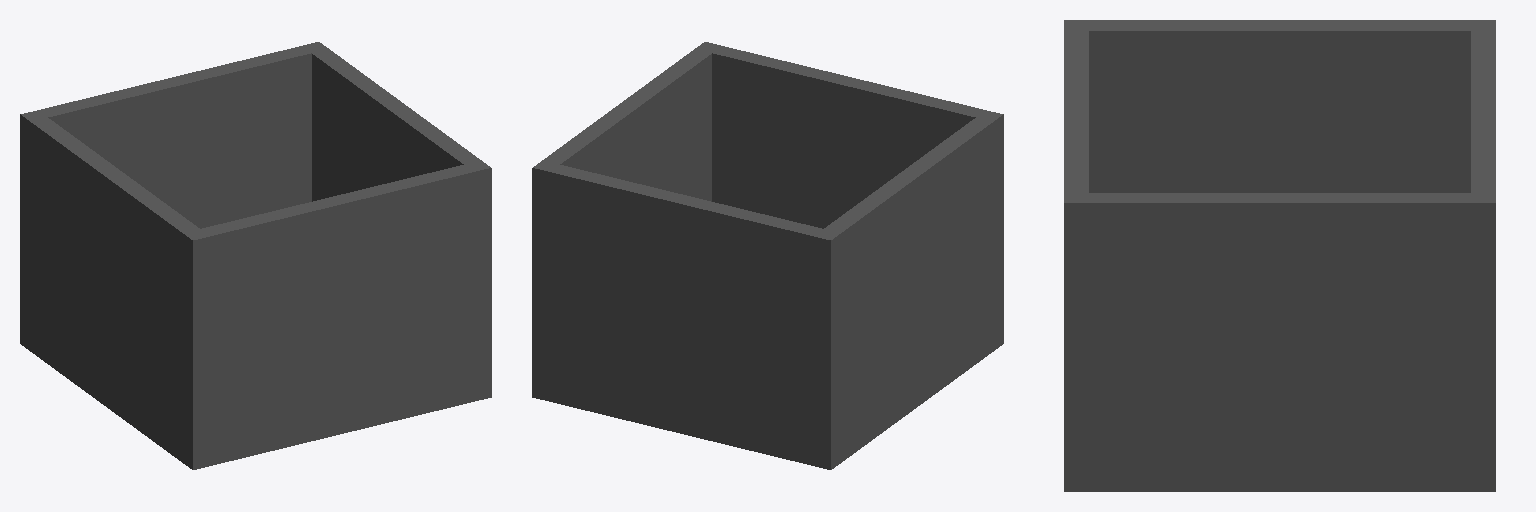
robot.urdf — box_dark:
<?xml version="1.0"?>
<robot name="box_dark">
  
  <!-- Bottom of the box -->
  <link name="box_bottom">
    <visual>
      <geometry>
        <box size="0.3 0.3 0.02"/>  <!-- 30cm x 30cm, 2cm thick -->
      </geometry>
      <origin xyz="0 0 0.01"/>
      <material name="gray">
        <color rgba="0.4 0.4 0.4 1"/>
      </material>
    </visual>
    
    <collision>
      <geometry>
        <box size="0.3 0.3 0.02"/>  <!-- 30cm x 30cm collision box -->
      </geometry>
      <origin xyz="0 0 0.01"/>
    </collision>
  </link>

  <!-- Walls of the box -->

  <!-- Front Wall -->
  <link name="box_wall_front">
    <visual>
      <geometry>
        <box size="0.3 0.02 0.25"/>  <!-- Wall thickness 2cm, 30cm height -->
      </geometry>
      <origin xyz="0 0.16 0.125"/>
      <material name="gray">
        <color rgba="0.4 0.4 0.4 1"/>
      </material>
    </visual>
    
    <collision>
      <geometry>
        <box size="0.3 0.02 0.25"/>  <!-- Wall thickness 2cm, 30cm height -->
      </geometry>
      <origin xyz="0 0.16 0.125"/>
    </collision>
  </link>

  <!-- Back Wall -->
  <link name="box_wall_back">
    <visual>
      <geometry>
        <box size="0.3 0.02 0.25"/>
      </geometry>
      <origin xyz="0 -0.16 0.125"/>
      <material name="gray">
        <color rgba="0.4 0.4 0.4 1"/>
      </material>
    </visual>
    
    <collision>
      <geometry>
        <box size="0.3 0.02 0.25"/>
      </geometry>
      <origin xyz="0 -0.16 0.125"/>
    </collision>
  </link>

  <!-- Left Wall -->
  <link name="box_wall_left">
    <visual>
      <geometry>
        <box size="0.02 0.34 0.25"/>  <!-- 2cm thick, 30cm height -->
      </geometry>
      <origin xyz="-0.16 0 0.125"/>
      <material name="gray">
        <color rgba="0.4 0.4 0.4 1"/>
      </material>
    </visual>
    
    <collision>
      <geometry>
        <box size="0.02 0.34 0.25"/>
      </geometry>
      <origin xyz="-0.16 0 0.125"/>
    </collision>
  </link>

  <!-- Right Wall -->
  <link name="box_wall_right">
    <visual>
      <geometry>
        <box size="0.02 0.34 0.25"/>
      </geometry>
      <origin xyz="0.16 0 0.125"/>
      <material name="gray">
        <color rgba="0.4 0.4 0.4 1"/>
      </material>
    </visual>
    
    <collision>
      <geometry>
        <box size="0.02 0.34 0.25"/>
      </geometry>
      <origin xyz="0.16 0 0.125"/>
    </collision>
  </link>

  <!-- Trigger collider on the bottom (for detection) -->


  <!-- Fixed Joints -->
  <joint name="joint_bottom_front" type="fixed">
    <parent link="box_bottom"/>
    <child link="box_wall_front"/>
    <origin xyz="0 0 0"/>
  </joint>

  <joint name="joint_bottom_back" type="fixed">
    <parent link="box_bottom"/>
    <child link="box_wall_back"/>
    <origin xyz="0 0 0"/>
  </joint>

  <joint name="joint_bottom_left" type="fixed">
    <parent link="box_bottom"/>
    <child link="box_wall_left"/>
    <origin xyz="0 0 0"/>
  </joint>

  <joint name="joint_bottom_right" type="fixed">
    <parent link="box_bottom"/>
    <child link="box_wall_right"/>
    <origin xyz="0 0 0"/>
  </joint>

</robot>

--- What the picture shows (computed from the rendered views, not written in the file) ---
3 views of the same robot in one strip: view 1: azimuth 30°, elevation 25°; view 2: azimuth 150°, elevation 25°; view 3: azimuth 270°, elevation 25° (orthographic).
Robot: box_dark — 5 links, 4 joints (4 fixed); root link box_bottom; default pose: every joint at zero.
Visible links, largest first — view 1: box_wall_back, box_wall_left, box_wall_front, box_wall_right; view 2: box_wall_front, box_wall_left, box_wall_back, box_wall_right; view 3: box_wall_right, box_wall_left, box_wall_front, box_wall_back.
Boxes of the visible links, <box> form: box_wall_back: <box>201,165,473,465</box>; box_wall_left: <box>20,110,209,469</box>; box_wall_front: <box>39,46,311,228</box>; box_wall_right: <box>302,42,491,401</box>; box_wall_front: <box>550,165,822,465</box>; box_wall_left: <box>814,110,1003,469</box>; box_wall_back: <box>712,46,984,228</box>; box_wall_right: <box>532,42,721,401</box>; box_wall_right: <box>1064,193,1495,491</box>; box_wall_left: <box>1064,20,1495,192</box>; box_wall_front: <box>1471,31,1495,192</box>; box_wall_back: <box>1064,31,1088,192</box>.
Bounding box of the posed robot: 0.34 × 0.34 × 0.25 m (x, y, z).
Geometry: primitives only (box / cylinder / sphere), no mesh files.
